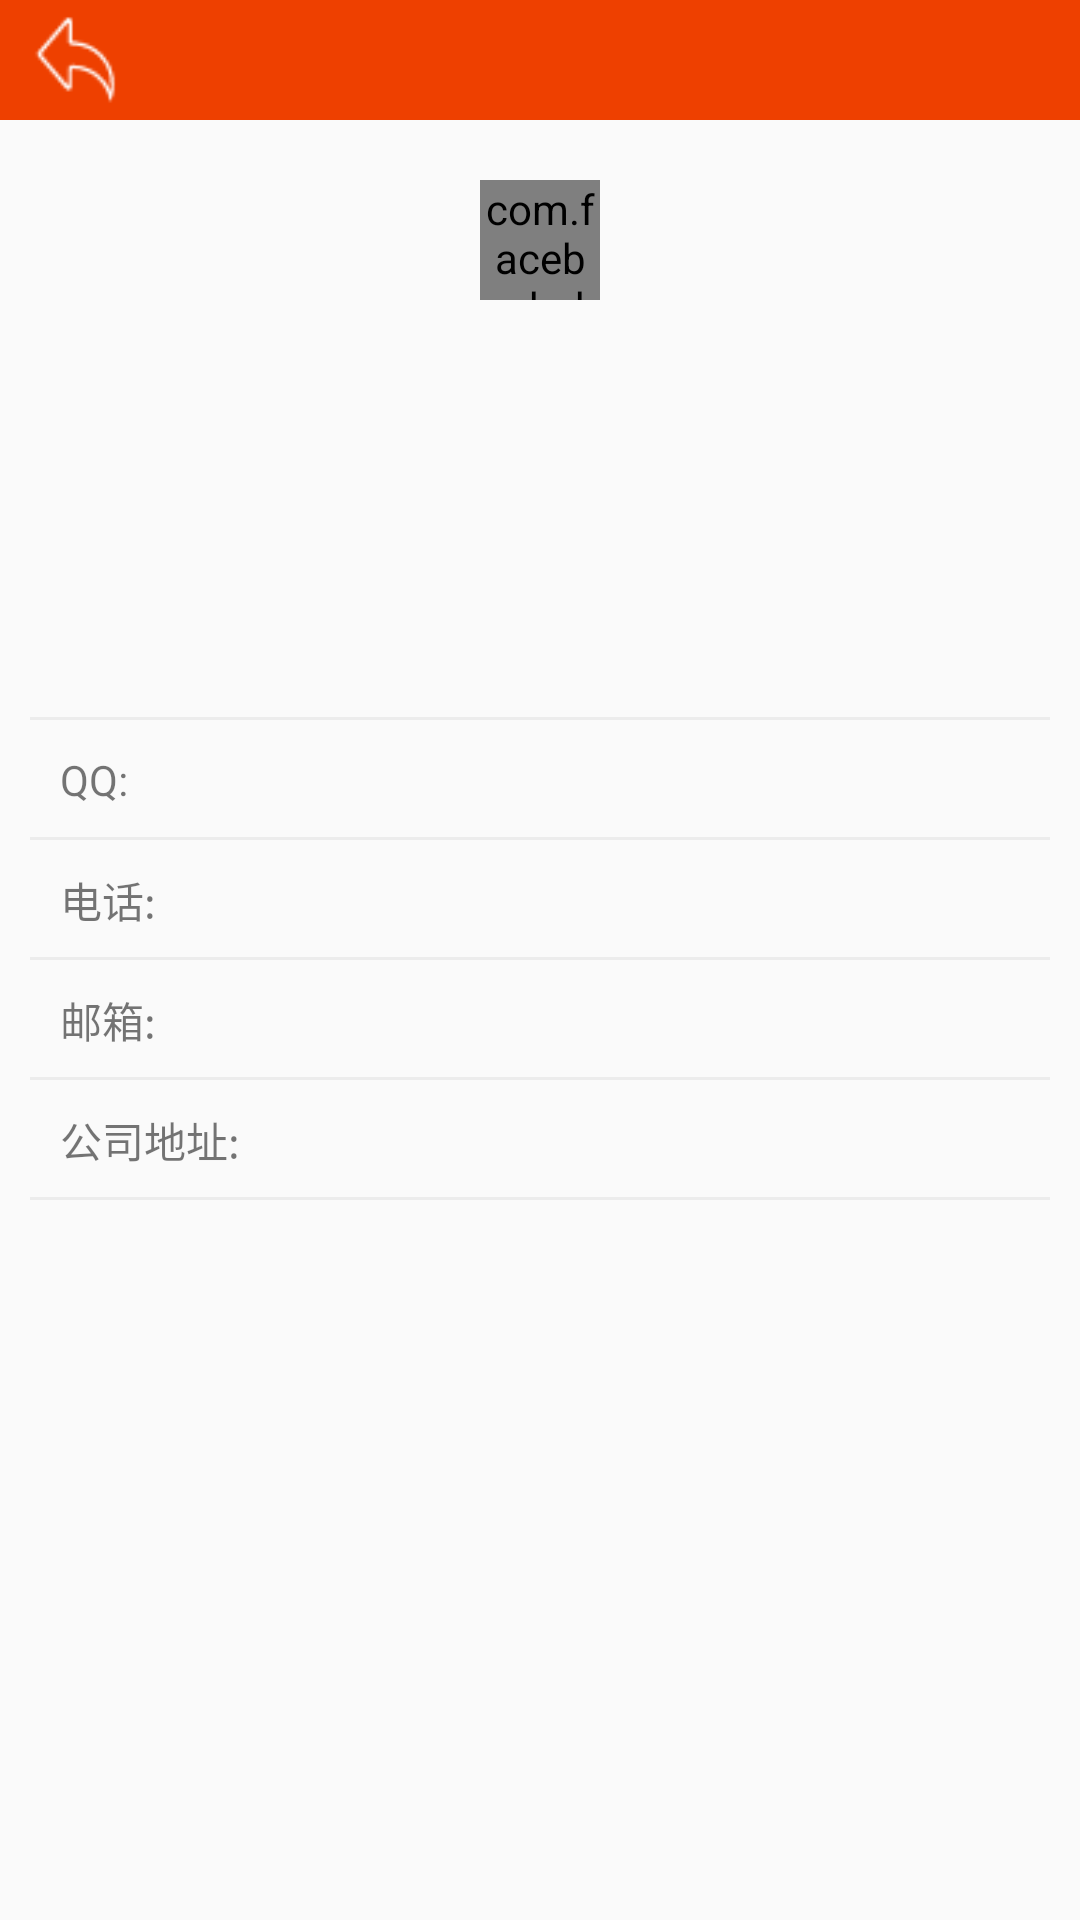

Named icons in this screenshot (1080 × 1920) and their centers, point (x, y):
back: point (75, 59)
